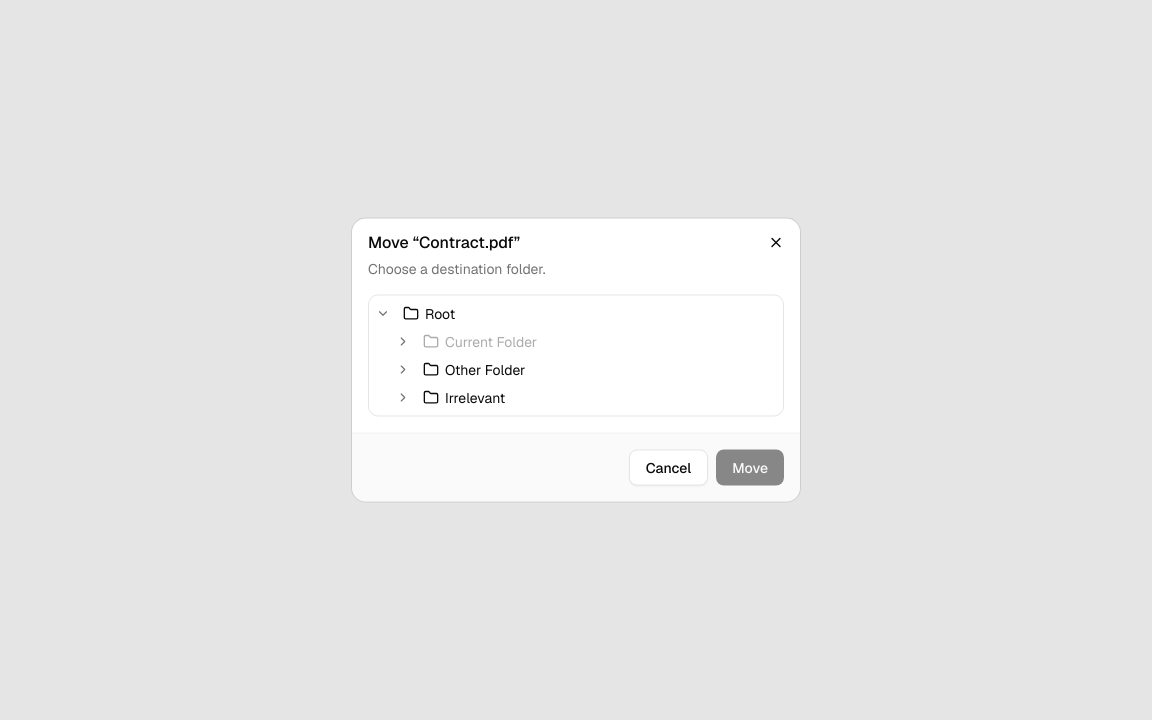
MoveDialog › surfaces an INVALID_MOVE rejection inline as well
Click the list item "Other Folder". click: click(485, 370)
box: [417,356,779,384]
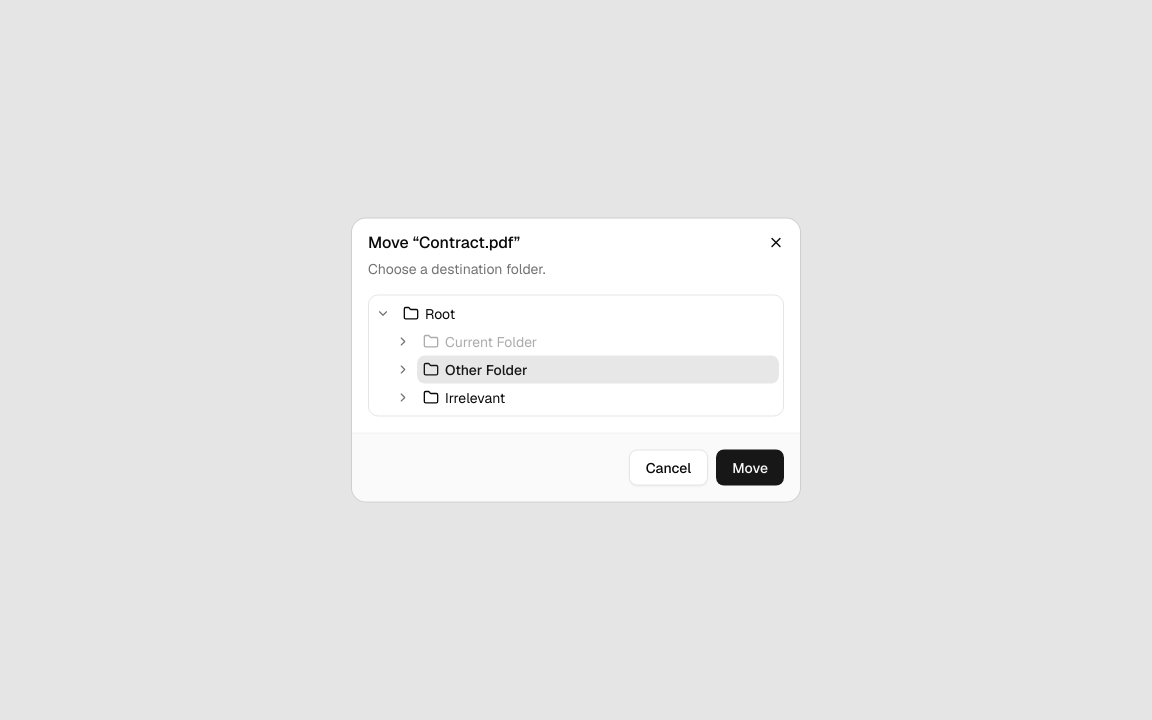
Click the button "Move". click: click(750, 468)
box: [716,450,784,486]
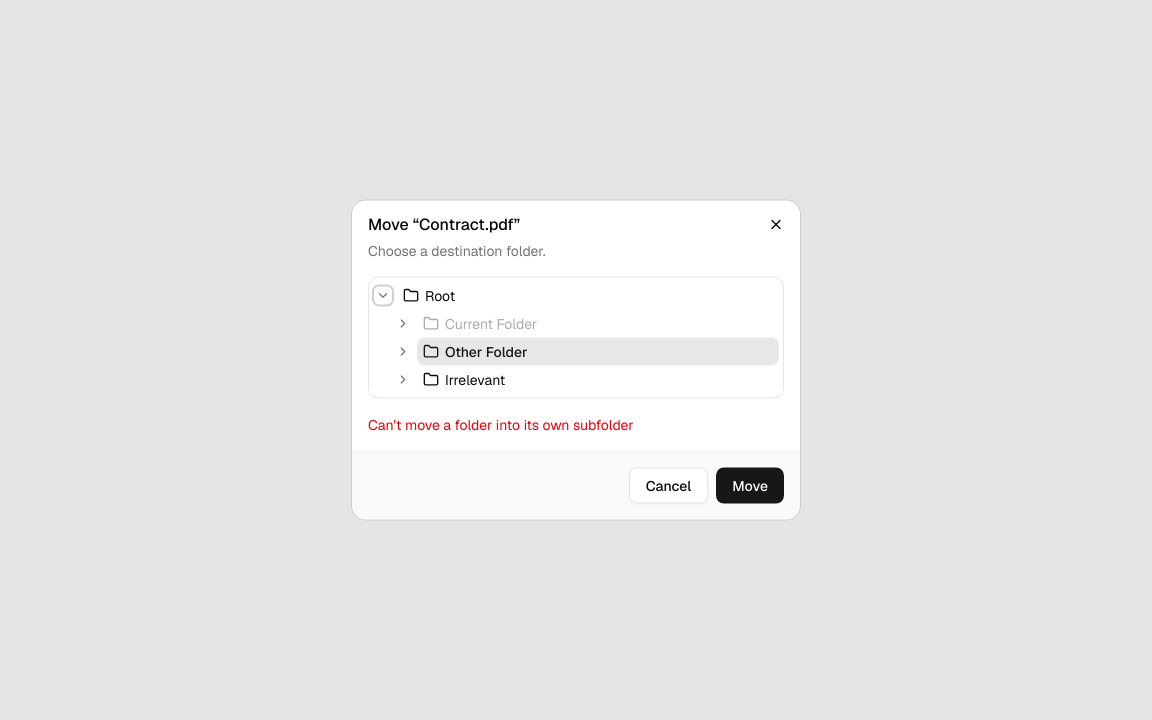
Expected: the message reads "Can't move a folder into its own subfolder", [368,416,634,434]
